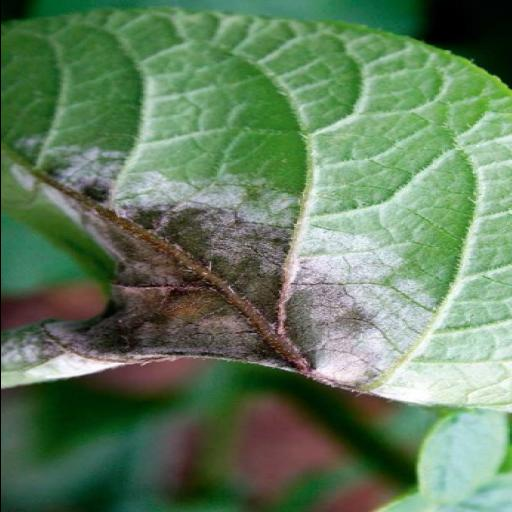disease_tomato: (0, 10, 510, 414)
